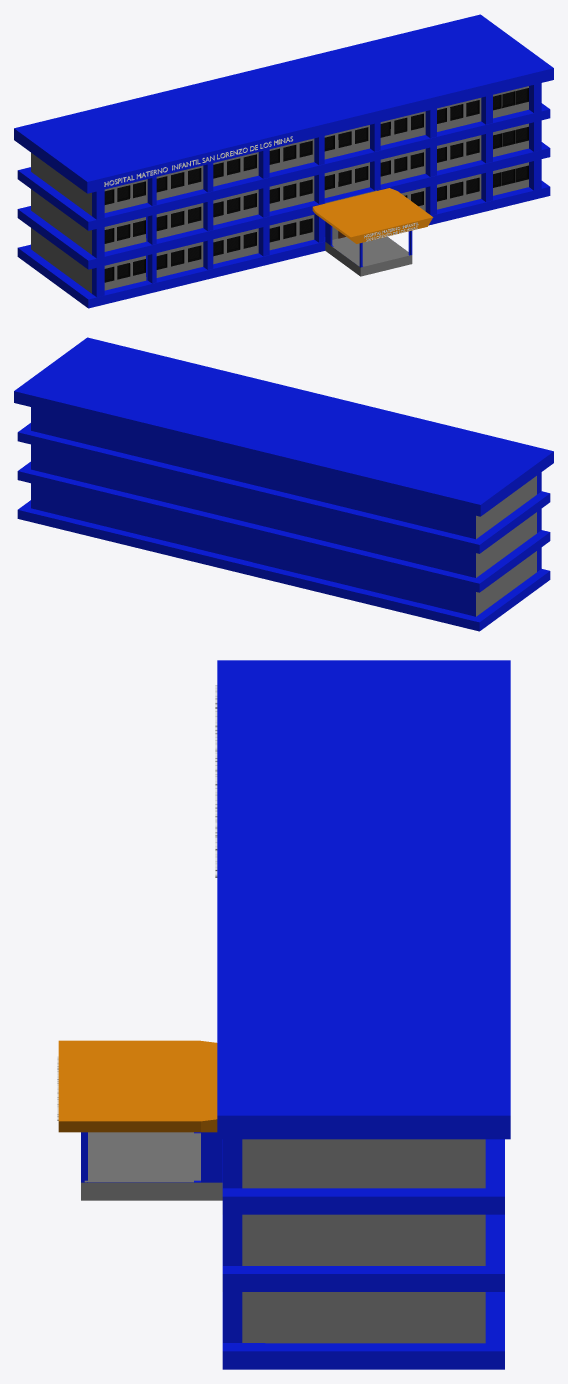
The model's file is maternidad2.fbx.
3 views of the same model, one above another, from view 1: azimuth 30°, elevation 25°; view 2: azimuth 150°, elevation 25°; view 3: azimuth 270°, elevation 25° (orthographic). The views are drawn at different scales.
Visible parts, largest first — view 1: building_001, Text; view 2: building_001; view 3: building_001.
Boxes of the visible parts, <box> form: building_001: <box>14,14,553,308</box>; Text: <box>104,136,292,186</box>; building_001: <box>14,337,553,631</box>; building_001: <box>58,660,510,1369</box>.
Size of the model in its own units: 3525 by 925 by 1483.
